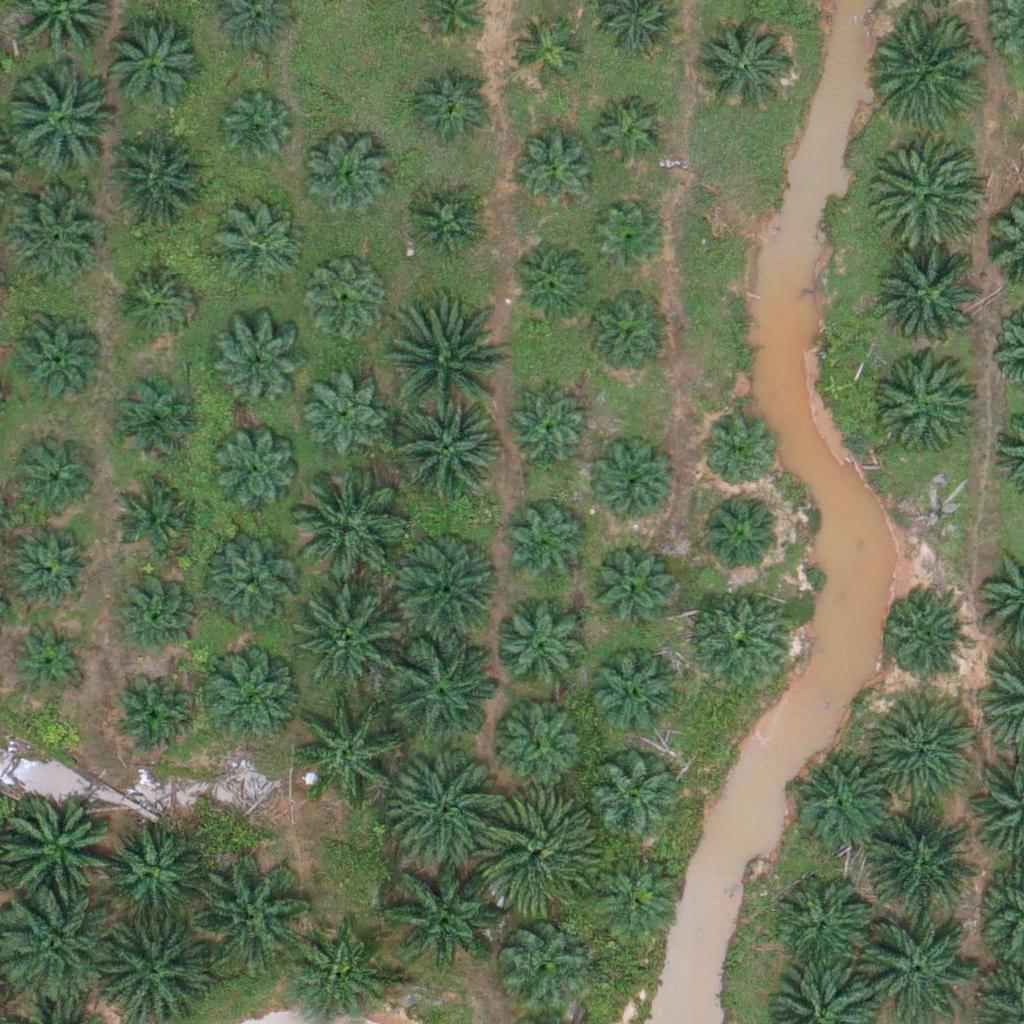Kelapa_Sawit: (866, 693, 979, 807), (872, 11, 985, 125), (383, 530, 496, 644), (868, 135, 981, 248), (482, 794, 595, 907), (390, 307, 503, 420), (387, 628, 500, 741), (95, 132, 208, 245), (4, 69, 117, 182), (865, 801, 977, 915), (875, 244, 987, 358), (394, 755, 506, 869), (383, 857, 495, 970), (194, 857, 306, 970), (2, 890, 114, 1003), (388, 400, 500, 513), (295, 694, 407, 807), (295, 585, 407, 698), (291, 473, 403, 586), (1, 794, 113, 907), (772, 874, 872, 975), (878, 353, 978, 454), (693, 17, 793, 118), (691, 586, 791, 687), (583, 647, 683, 748), (200, 540, 300, 641), (104, 19, 204, 120), (1, 186, 101, 287), (101, 821, 201, 922), (791, 754, 891, 855), (493, 693, 593, 793), (497, 597, 597, 697), (199, 646, 299, 746), (510, 123, 598, 212), (497, 916, 585, 1004), (408, 67, 496, 155), (396, 183, 484, 271), (580, 290, 668, 378), (594, 851, 682, 939), (503, 500, 591, 588), (212, 326, 300, 414), (212, 427, 300, 515), (12, 312, 100, 400), (111, 675, 199, 763), (113, 258, 201, 346), (302, 259, 390, 347), (879, 587, 966, 675), (509, 238, 596, 326), (502, 386, 589, 474), (591, 443, 678, 531), (698, 489, 785, 577), (592, 759, 679, 847), (587, 538, 674, 626), (10, 437, 97, 525), (11, 521, 98, 609), (109, 565, 196, 653), (117, 468, 204, 556), (109, 371, 196, 459), (304, 130, 391, 218), (301, 372, 388, 460), (215, 203, 302, 291), (219, 93, 294, 169), (592, 203, 667, 279), (12, 618, 87, 694), (701, 416, 776, 492), (507, 14, 582, 89), (595, 98, 670, 173)
